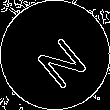N_NW: (24, 23, 86, 87)
